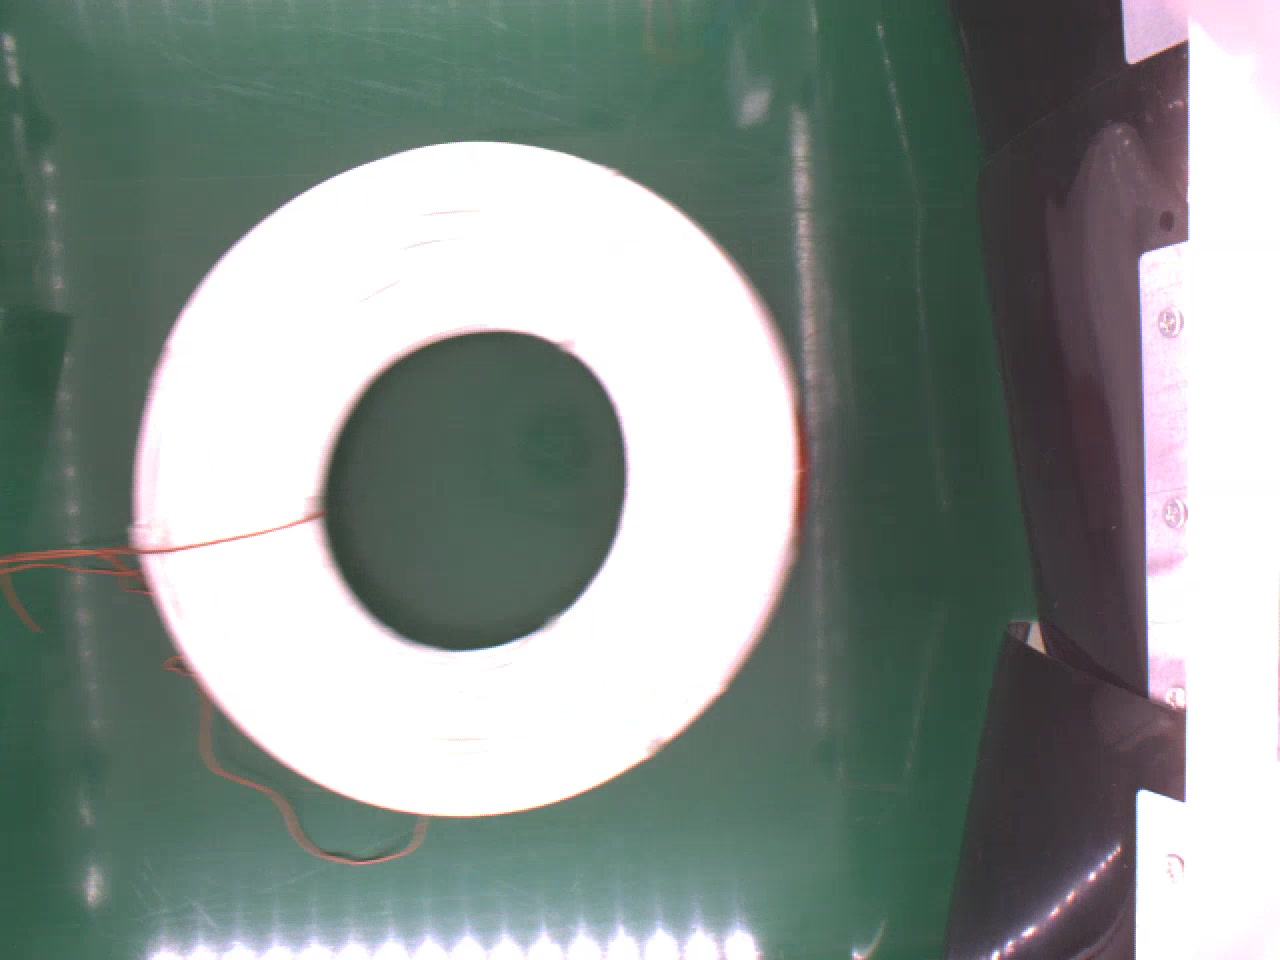white: (131, 138, 809, 809)
